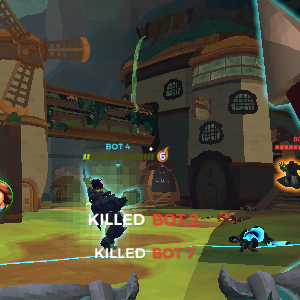model: (272, 155, 300, 189)
